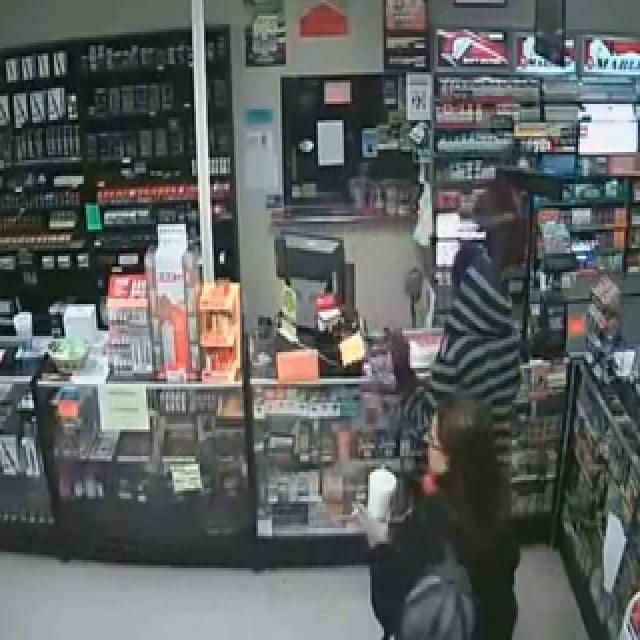robbery: (340, 80, 567, 640)
